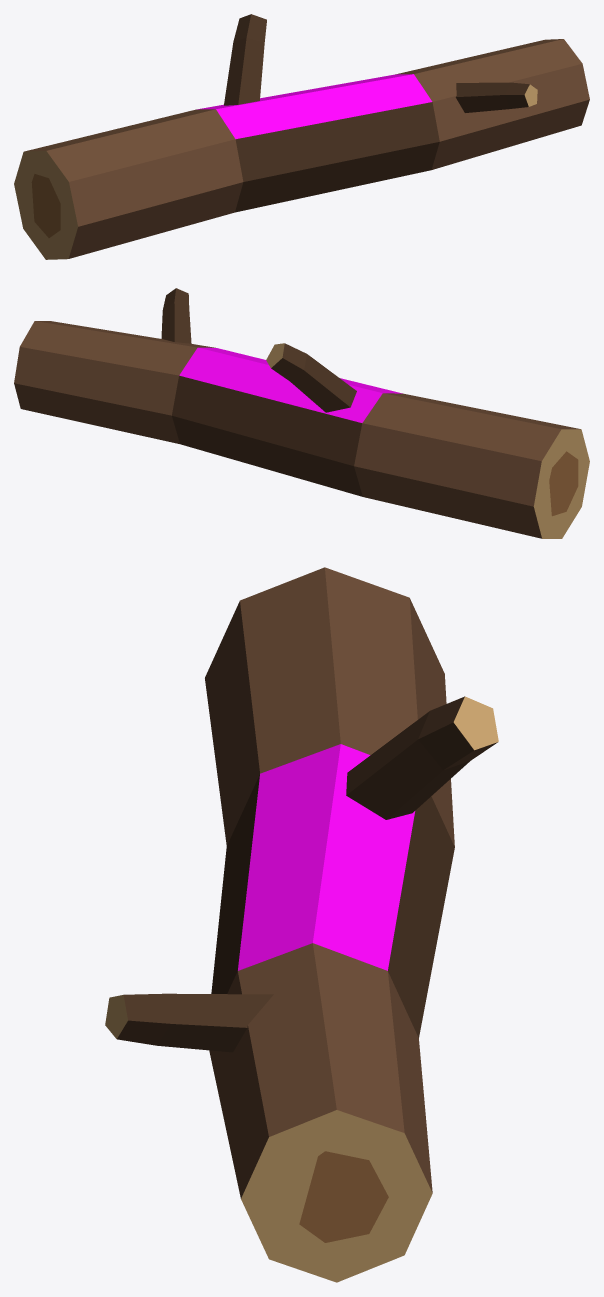
File: log.glb
The picture shows the model from 3 angles, top to bottom: view 1: azimuth 30°, elevation 25°; view 2: azimuth 150°, elevation 25°; view 3: azimuth 270°, elevation 25°; orthographic projection. The views are drawn at different scales.
Parts seen in each view (by area): view 1: log__mesh; view 2: log__mesh; view 3: log__mesh.
Boxes of the visible parts, x1,y1,x2,y2 form: log__mesh: (14,14,589,259); log__mesh: (14,288,589,538); log__mesh: (105,567,498,1282).
Size of the model in its own units: 3.03 by 0.8897 by 0.9833.
Materials: 1 (1 with a texture image).
